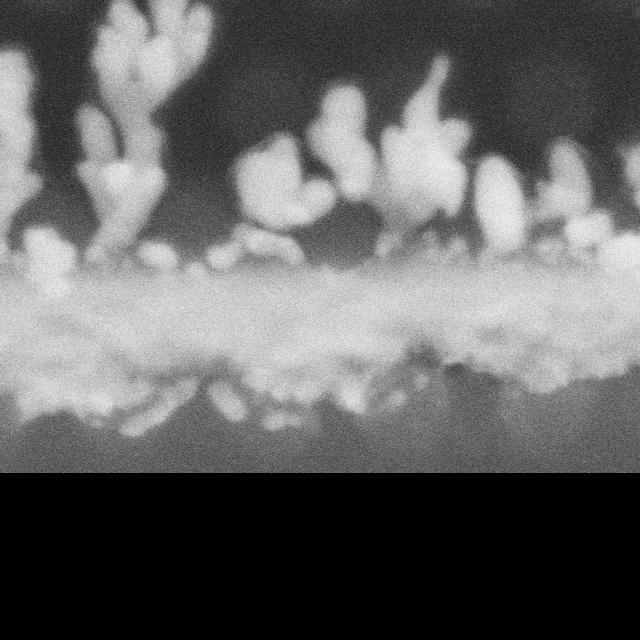Dendrite: (1, 0, 640, 403), (76, 0, 213, 260), (306, 56, 472, 253), (232, 134, 335, 231), (0, 47, 42, 254), (207, 222, 305, 268), (15, 227, 78, 296), (129, 241, 182, 273)
